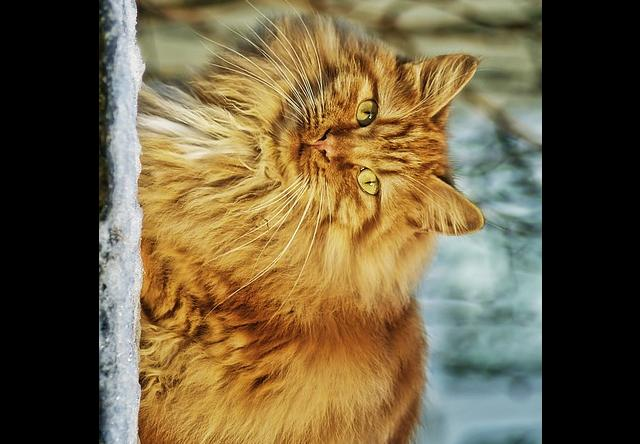cat: (135, 1, 487, 444)
